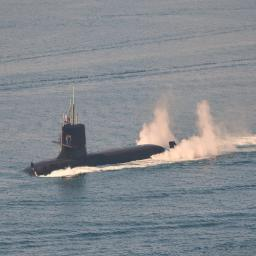submarine: (27, 77, 179, 176)
